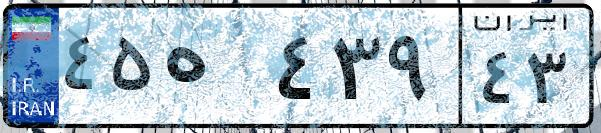3: (330, 28, 385, 110), (525, 38, 570, 115)
4: (270, 28, 330, 110), (57, 26, 110, 100), (475, 38, 525, 113)
5: (110, 28, 158, 98)
9: (385, 28, 445, 110)
ه: (158, 20, 270, 120)
